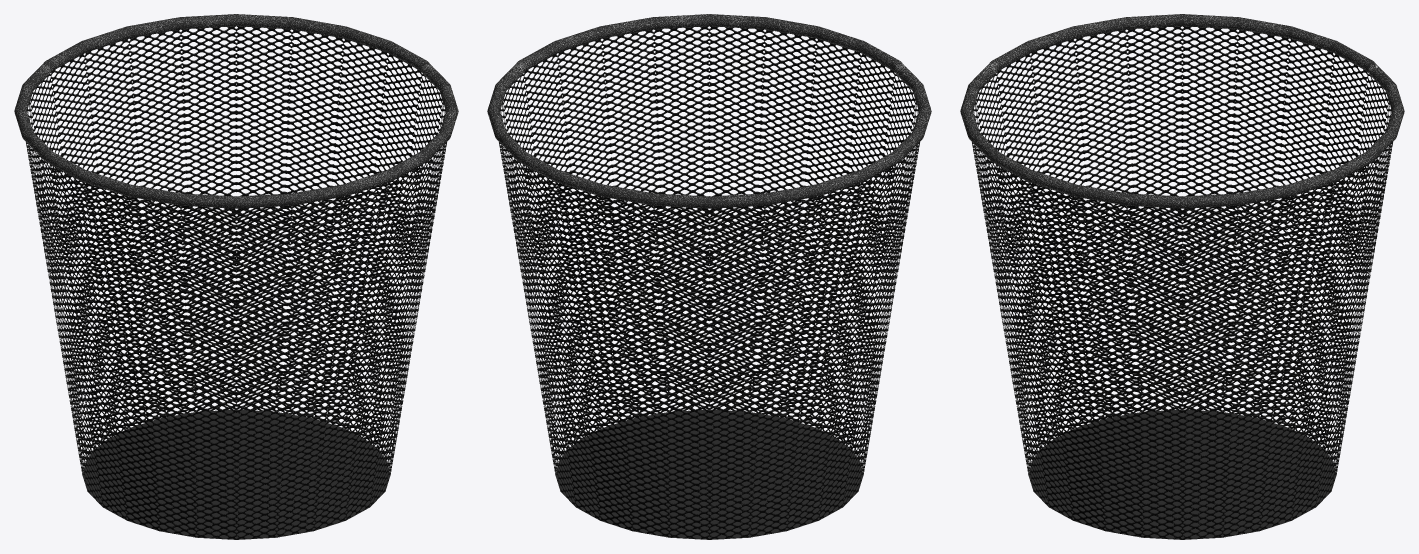
3 renders of one model, left to right at view 1: azimuth 30°, elevation 25°; view 2: azimuth 150°, elevation 25°; view 3: azimuth 270°, elevation 25°, orthographic.
Visible parts, largest first — view 1: mesh1_mesh1-geometry, mesh2_mesh2-geometry; view 2: mesh1_mesh1-geometry, mesh2_mesh2-geometry; view 3: mesh1_mesh1-geometry, mesh2_mesh2-geometry.
Boxes of the visible parts, left/top/right/bottom form: mesh1_mesh1-geometry: left=26, top=26, right=446, bottom=539; mesh2_mesh2-geometry: left=14, top=14, right=458, bottom=208; mesh1_mesh1-geometry: left=499, top=26, right=919, bottom=539; mesh2_mesh2-geometry: left=487, top=14, right=931, bottom=208; mesh1_mesh1-geometry: left=972, top=26, right=1392, bottom=539; mesh2_mesh2-geometry: left=960, top=14, right=1404, bottom=208.
Size of the model in its own units: 0.5934 by 0.5439 by 0.5934.
3 materials, 1 textured.
